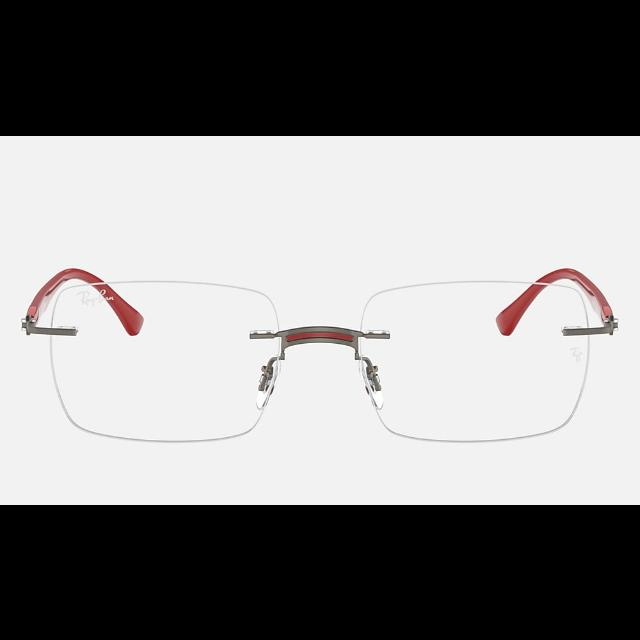glasses: (21, 264, 619, 443)
